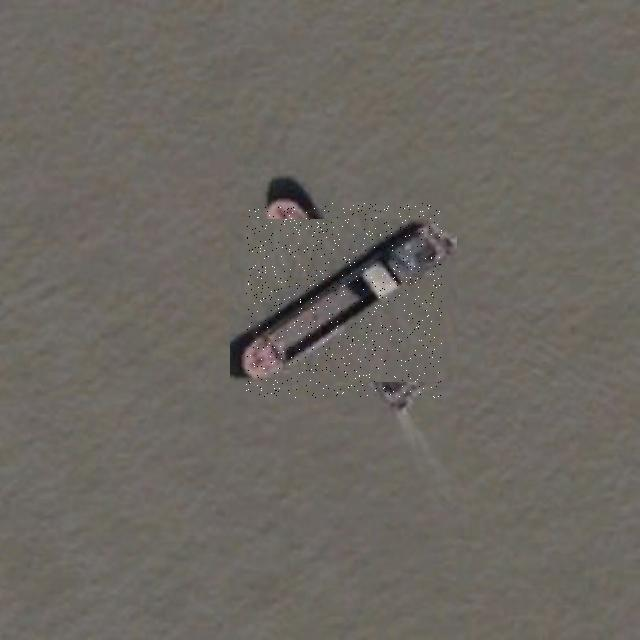boat: (246, 203, 442, 398)
